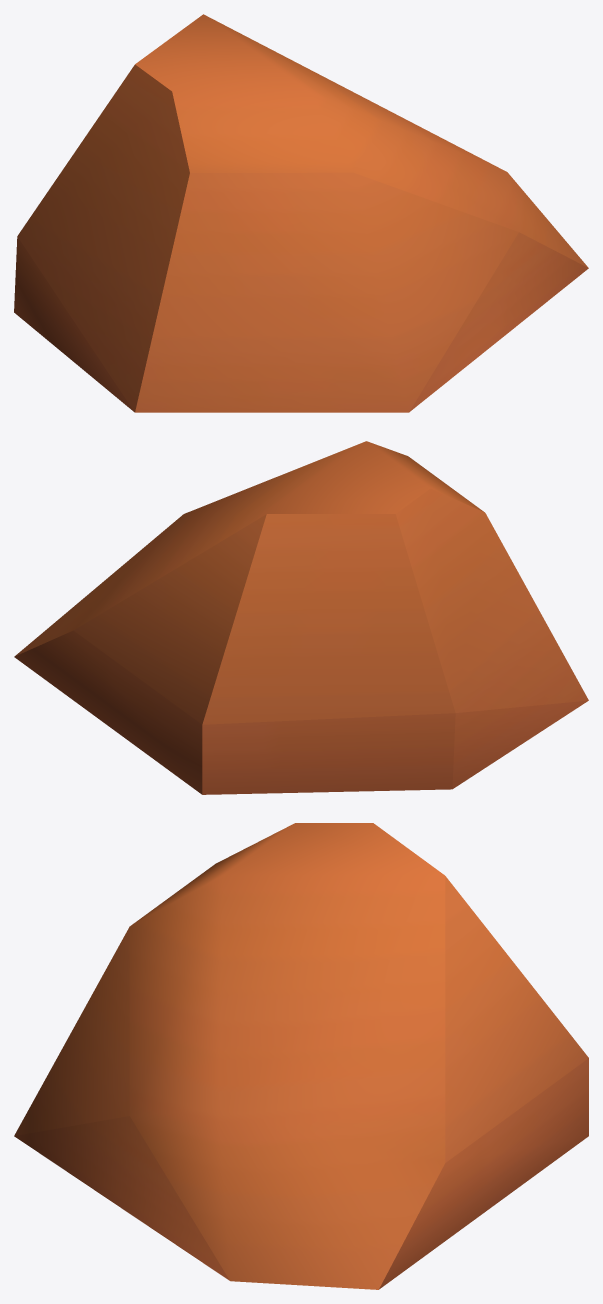
Rendered from moon-rock.glb.
3 views of the same model, one above another, from view 1: azimuth 30°, elevation 25°; view 2: azimuth 150°, elevation 25°; view 3: azimuth 270°, elevation 25° (orthographic). The views are drawn at different scales.
Visible parts, largest first — view 1: rock_A; view 2: rock_A; view 3: rock_A.
Boxes of the visible parts, x1,y1,x2,y2 form: rock_A: (14, 14, 588, 412); rock_A: (14, 441, 588, 794); rock_A: (14, 823, 588, 1289).
Bounding box in the file's own units: 2.56 × 1.2 × 2.4.
1 material, 1 textured.
